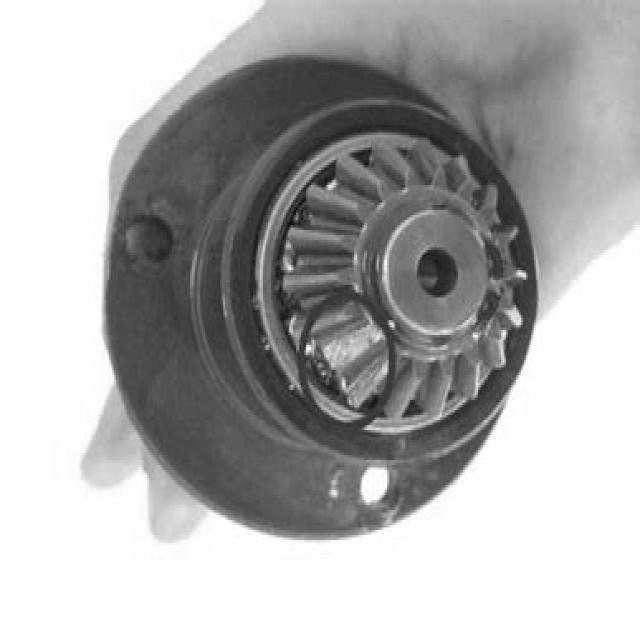Fault-Exist: (303, 178, 390, 466)
